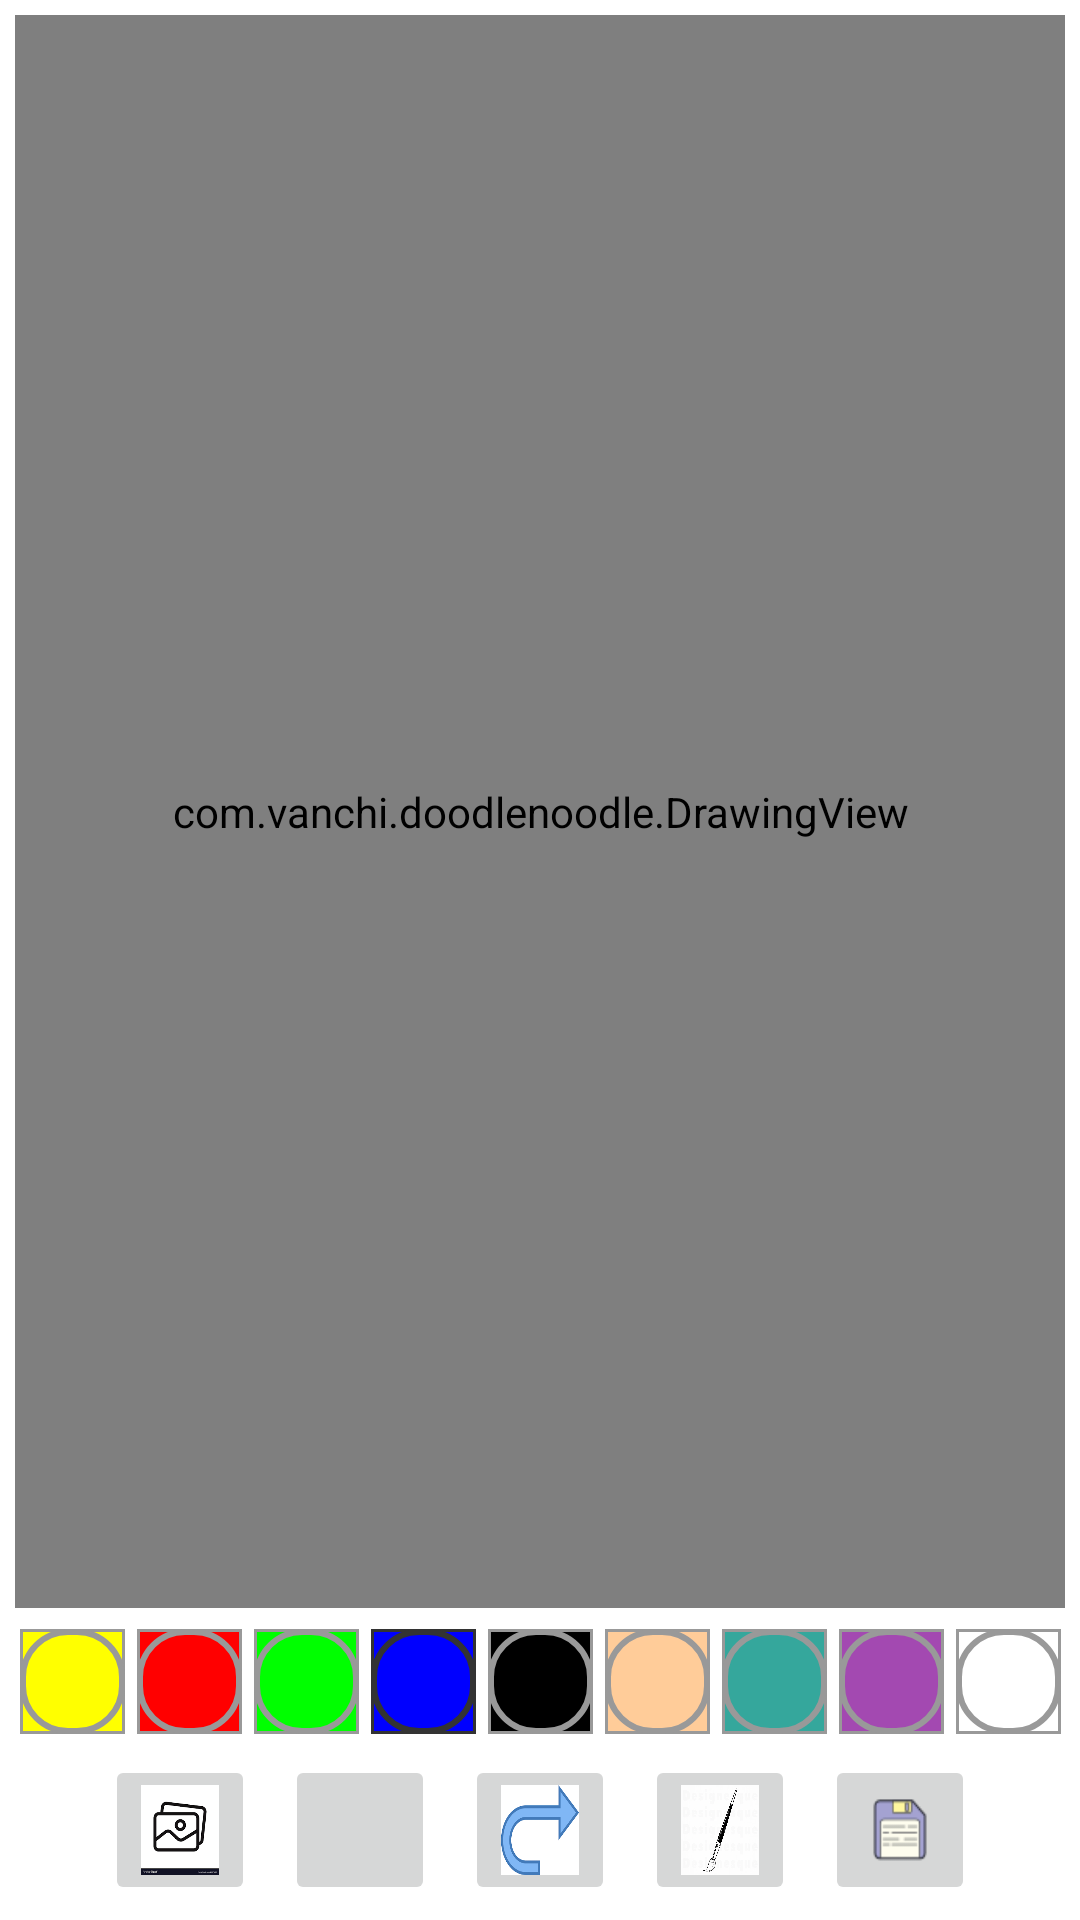

Icon click points for this 1080px x 1920px phone screenshot, format [x,y]:
Gallery Button to choose the photos: [180,1830]
Paint Brush Thickness Selector: [720,1830]
Redo Button: [540,1830]
Save Button: [900,1830]
